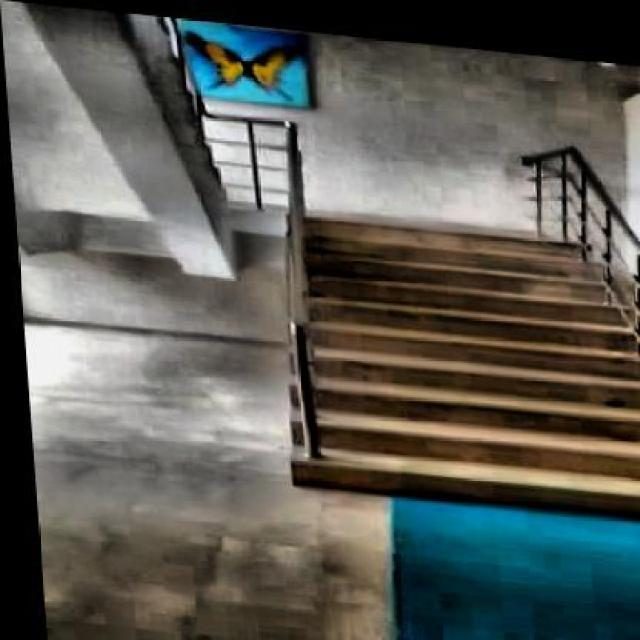stair: (263, 198, 639, 512)
